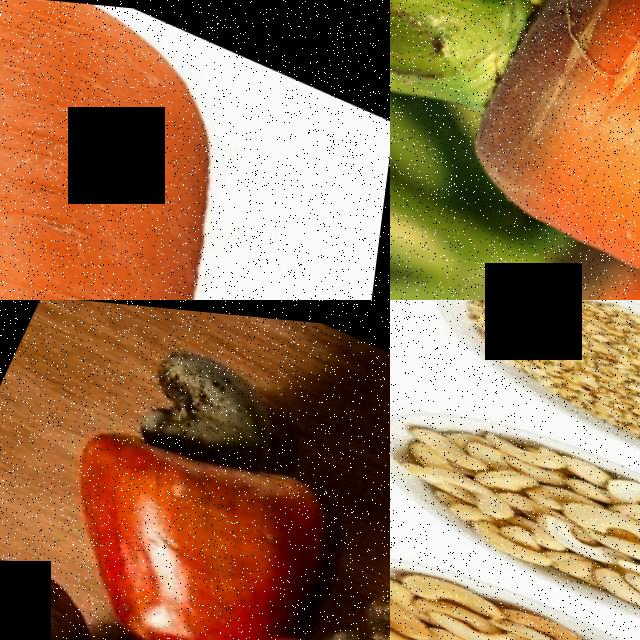carrot: (0, 0, 390, 300), (390, 0, 640, 300)
cashew: (103, 313, 322, 487), (270, 527, 390, 640), (0, 527, 114, 640), (392, 542, 532, 623), (476, 511, 584, 578), (556, 477, 640, 554), (481, 415, 583, 474), (514, 591, 621, 640), (408, 417, 503, 472), (437, 464, 526, 513), (516, 609, 634, 640), (468, 606, 570, 640), (390, 573, 428, 626), (609, 462, 640, 519)
